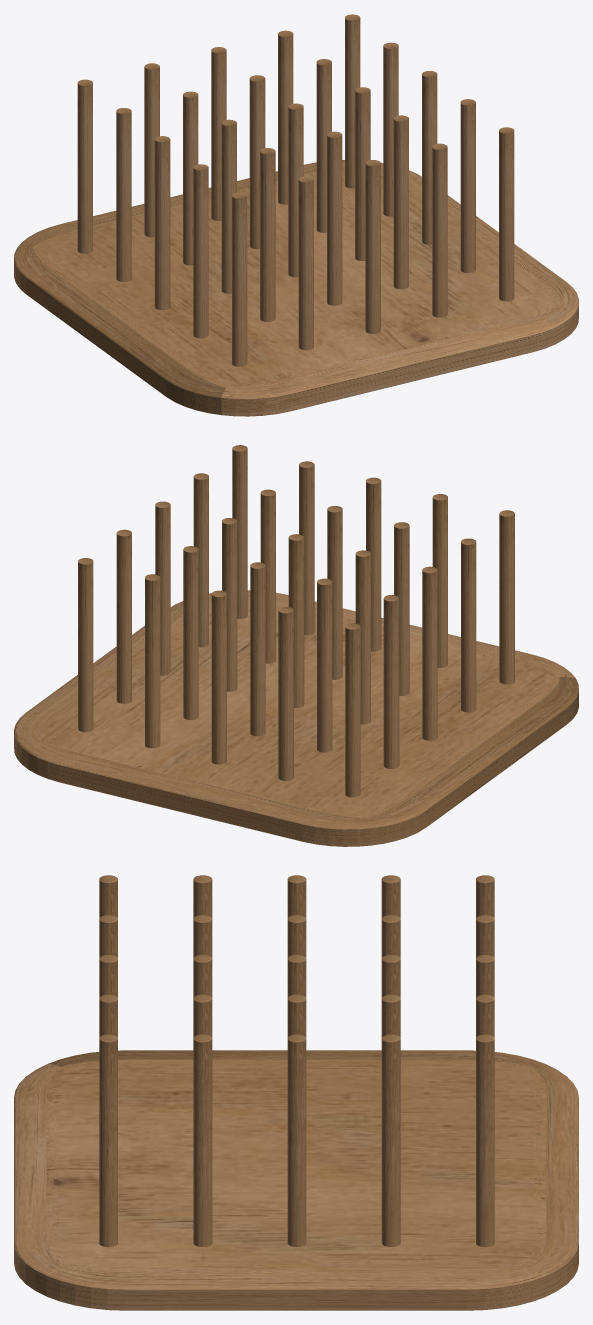
Rendered from 3DConnect4base.obj.
3 renders of one model, top to bottom at view 1: azimuth 30°, elevation 25°; view 2: azimuth 150°, elevation 25°; view 3: azimuth 270°, elevation 25°, orthographic. The views are drawn at different scales.
Parts seen in each view (by area): view 1: Base_Cube; view 2: Base_Cube; view 3: Base_Cube.
Boxes of the visible parts, bbox=[...] form: Base_Cube: bbox=[14, 14, 578, 416]; Base_Cube: bbox=[14, 445, 578, 846]; Base_Cube: bbox=[14, 875, 578, 1310].
Bounding box in the file's own units: 0.3 × 0.1398 × 0.3.
